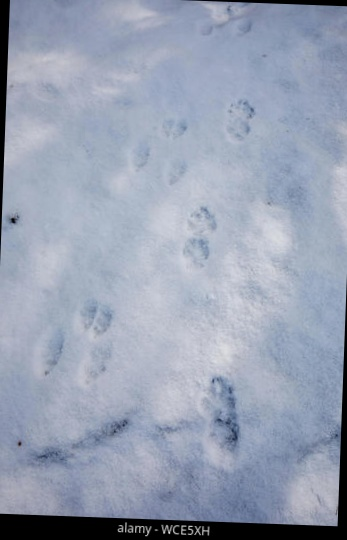fox: (184, 371, 262, 477), (129, 104, 199, 191), (166, 195, 236, 281), (218, 92, 263, 153)
